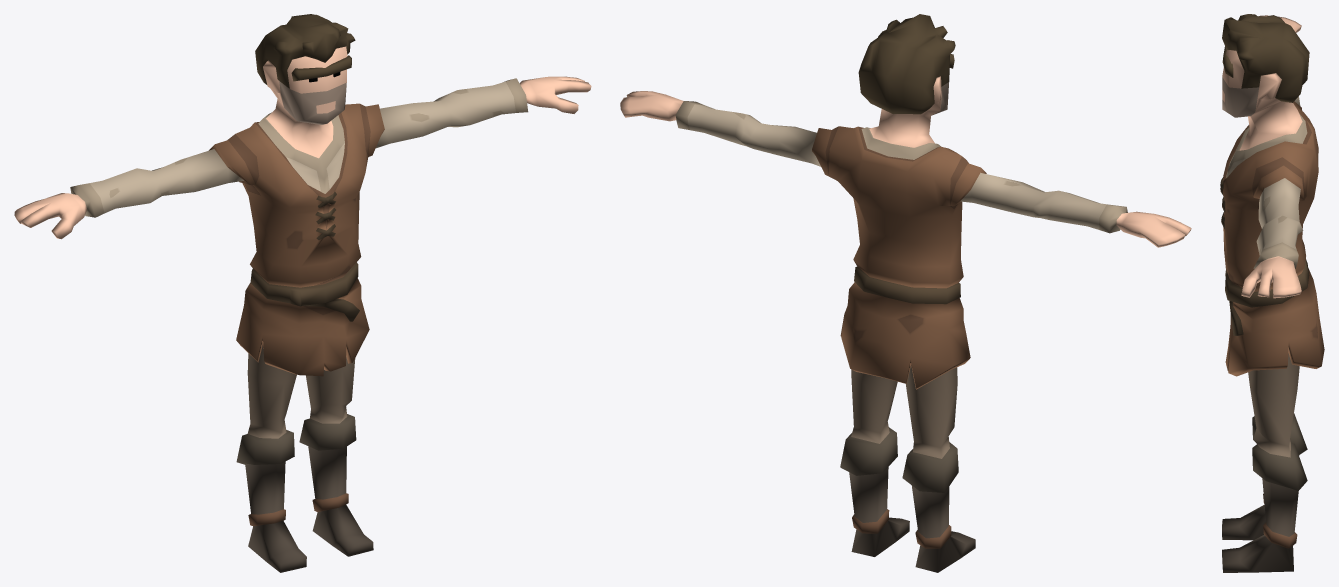
Rendered from peasant.fbx.
3 renders of one model, left to right at view 1: azimuth 30°, elevation 25°; view 2: azimuth 150°, elevation 25°; view 3: azimuth 270°, elevation 25°, orthographic.
Parts seen in each view (by area): view 1: peasant; view 2: peasant; view 3: peasant.
Part boxes in pixels (left/top/right/bottom): peasant: left=14, top=14, right=591, bottom=572; peasant: left=620, top=14, right=1191, bottom=572; peasant: left=1220, top=14, right=1324, bottom=572.
Bounding box in the file's own units: 289 × 258 × 45.72.
